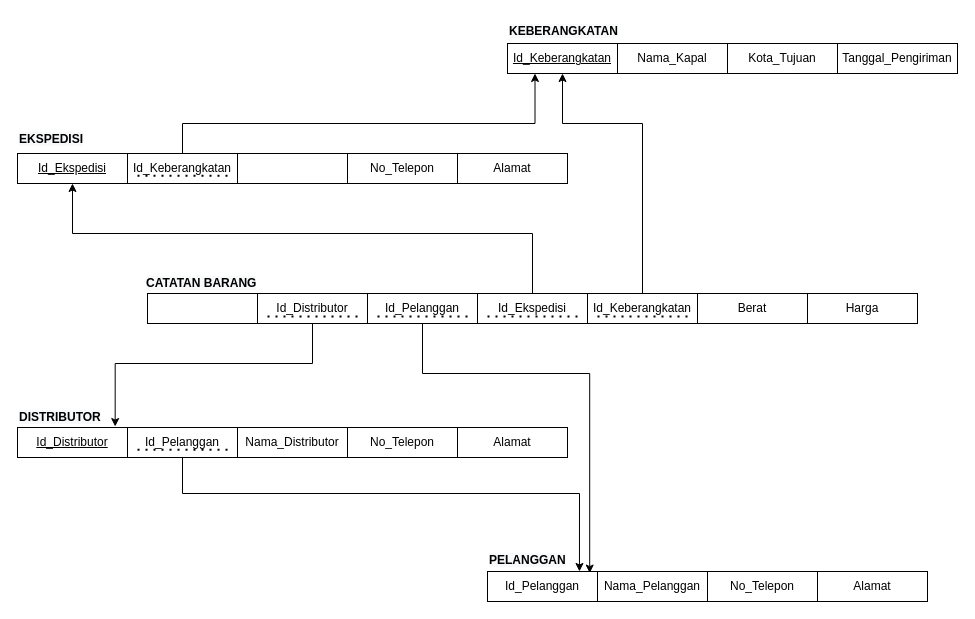
This 975x619 diagram has some shape labels left out. The centre of each missing label's shape, as x and y in pixels:
"Id_CatatanBarang" belongs at pixel 202 308.
"Nama_Ekspedisi" belongs at pixel 292 168.
